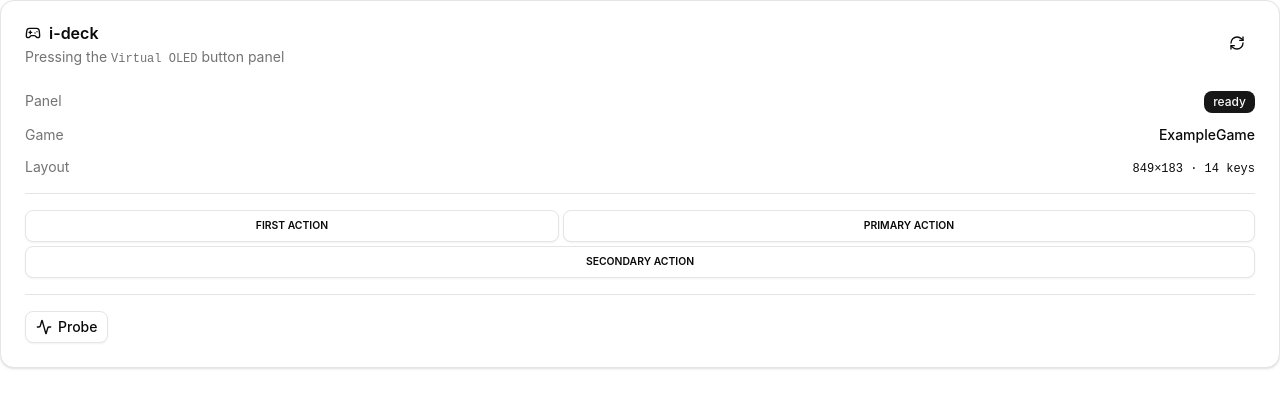
Test case: IDeckPanel › runs the side-effect-free probe
The width and height of the screenshot is (1280, 418).
What coordinates should you click on to do the following:
click the button "Probe"
I would click on:
 (67, 327)
Its box is [25,311,108,343].
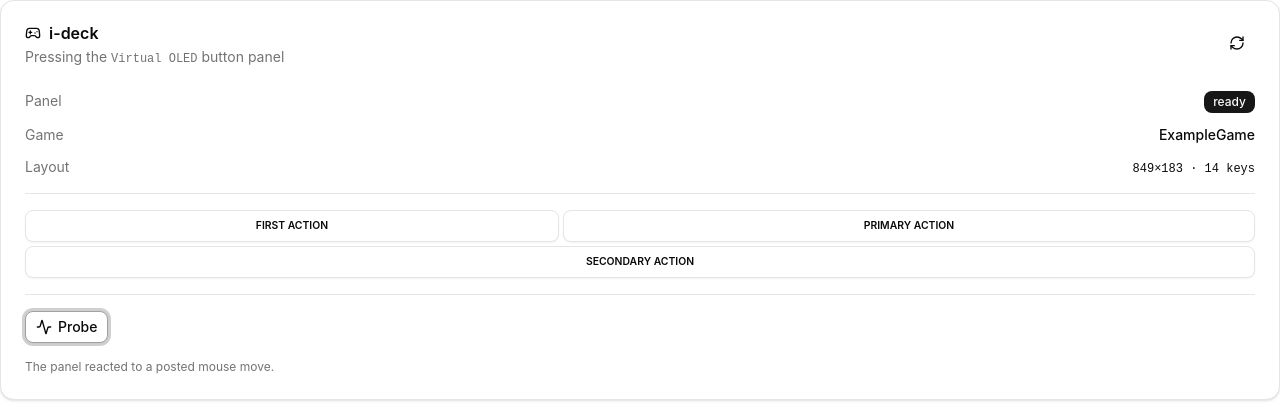
expect the text "The panel reacted to a posted mouse move." is shown: met, box [25,359,274,374]
